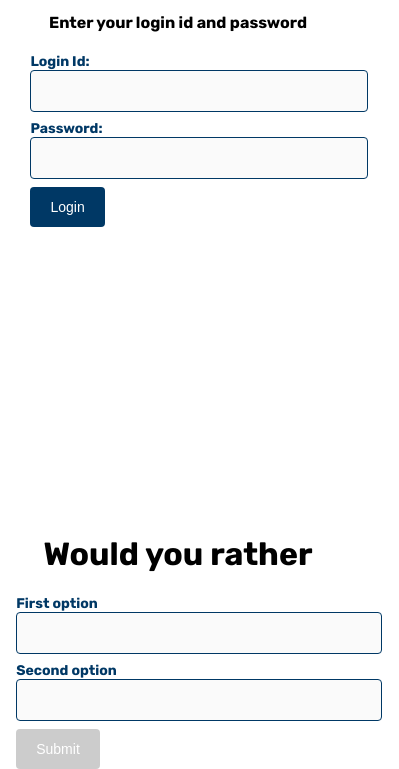
it: New Page › Should allow to post question if both options are filled
(page scrolled)
Type "optionOne" into the field with test id "optionOne" at (199, 633), box top-left (16, 612), bottom-right (382, 654)
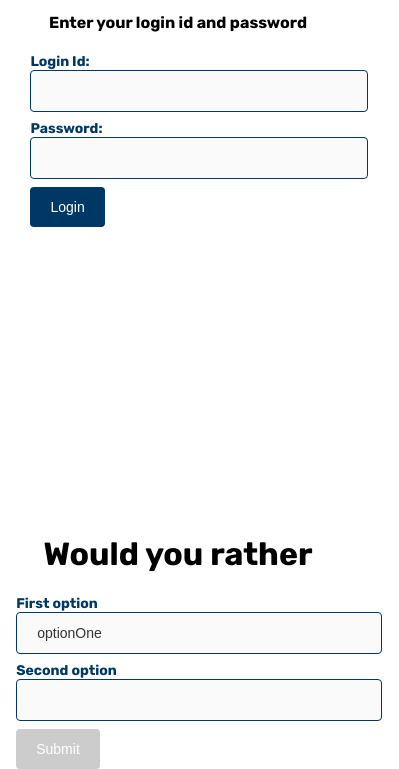
Type "optionTwo" into the field with test id "optionTwo" at (199, 700), box top-left (16, 679), bottom-right (382, 721)
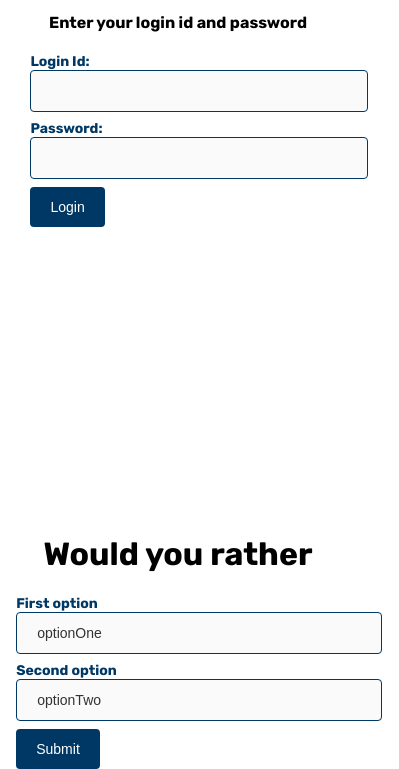
Now the button with test id "submit" is enabled, box top-left (16, 729), bottom-right (100, 768)
